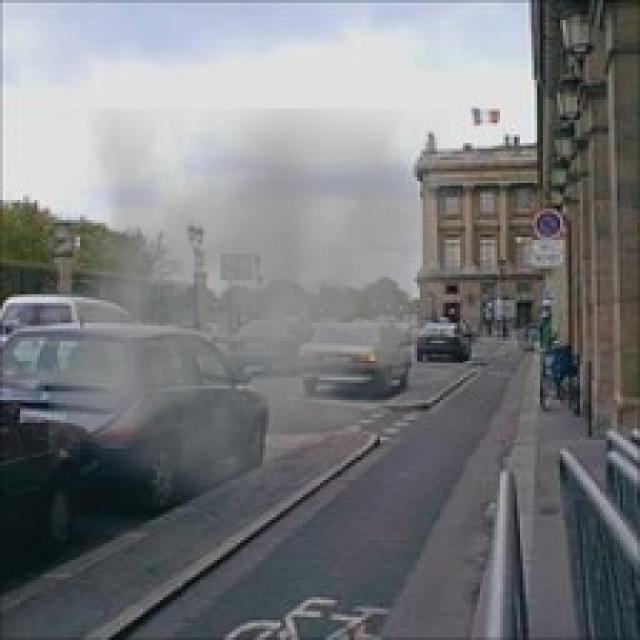Smoke: (49, 108, 452, 523)
